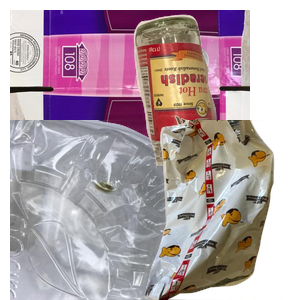cardboard: (10, 10, 250, 190)
glass: (131, 12, 300, 170)
plastic: (10, 120, 197, 300)
trash: (127, 120, 300, 300)
